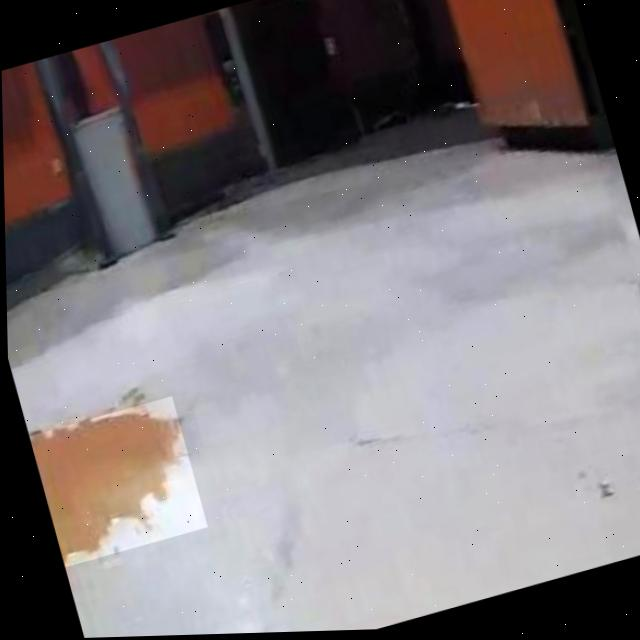spillage: (28, 412, 180, 567)
